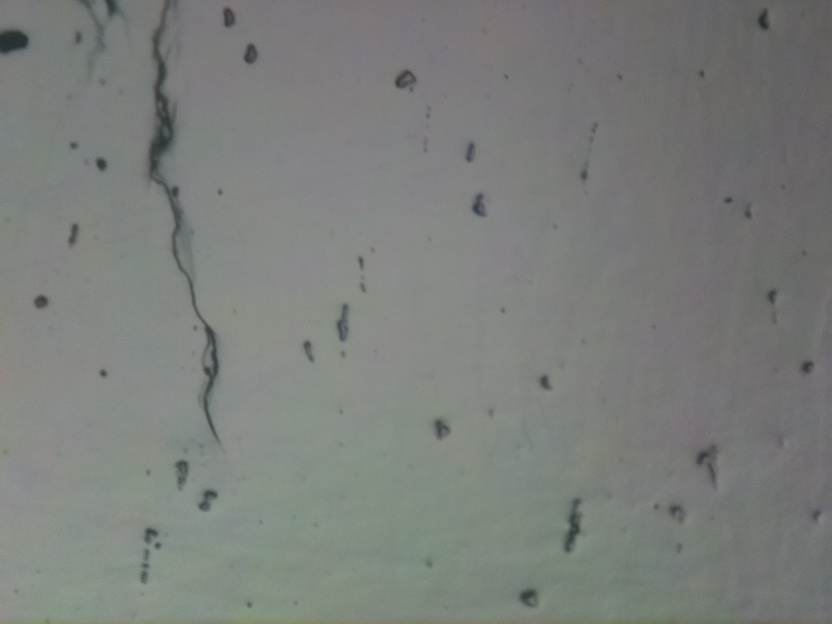crack: (147, 0, 220, 443)
